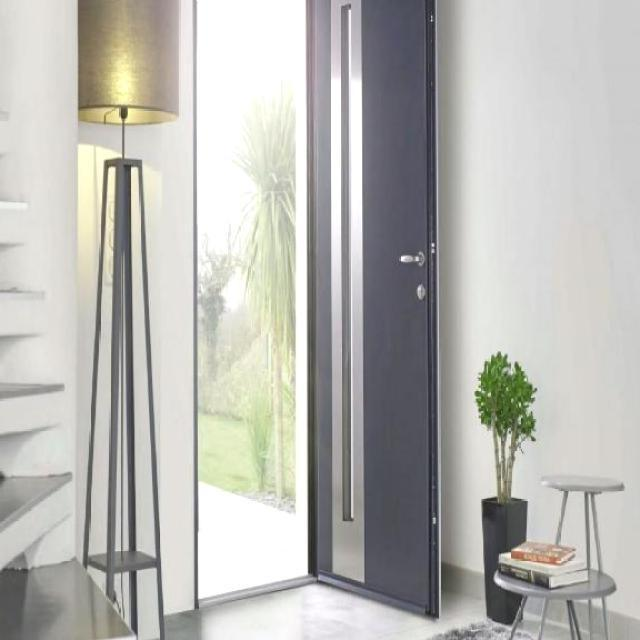door: (306, 0, 440, 619)
